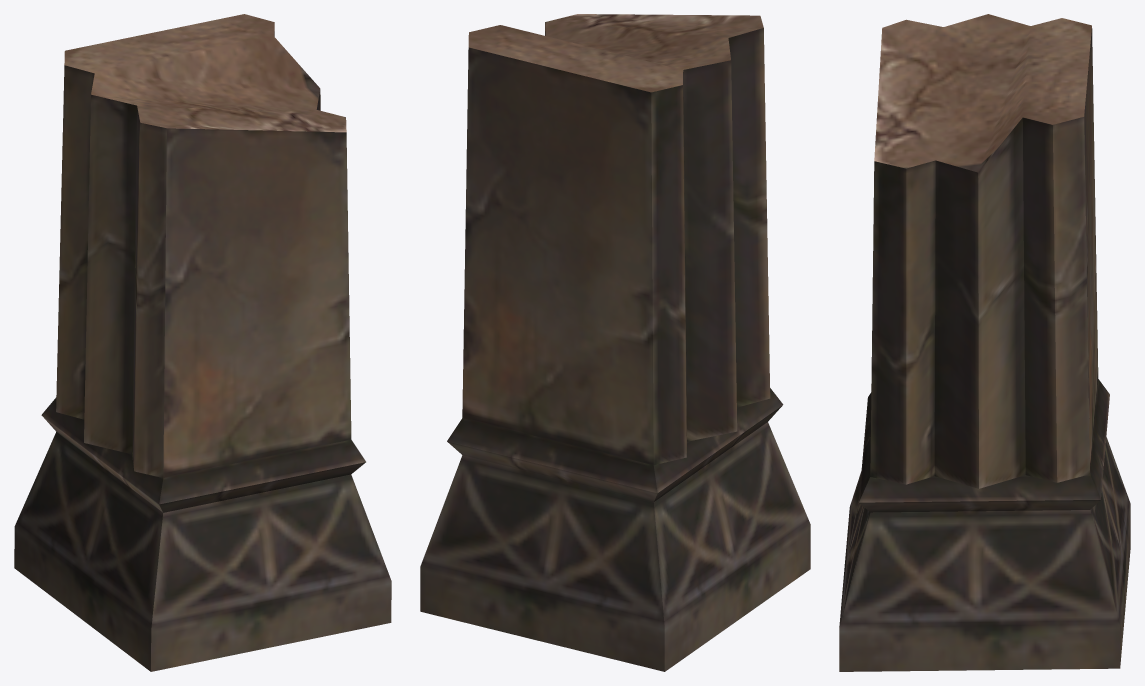
Rendered from blsd_4zhuzi_03.FBX.
3 views of the same model, side by side, from view 1: azimuth 30°, elevation 25°; view 2: azimuth 150°, elevation 25°; view 3: azimuth 270°, elevation 25° (orthographic). The views are drawn at different scales.
Visible parts, largest first — view 1: blsd_4zhuzi_03; view 2: blsd_4zhuzi_03; view 3: blsd_4zhuzi_03.
Boxes of the visible parts, left/top/right/bottom form: blsd_4zhuzi_03: left=14, top=14, right=391, bottom=671; blsd_4zhuzi_03: left=420, top=14, right=810, bottom=671; blsd_4zhuzi_03: left=839, top=14, right=1130, bottom=671.
Size of the model in its own units: 159 by 342 by 166.
